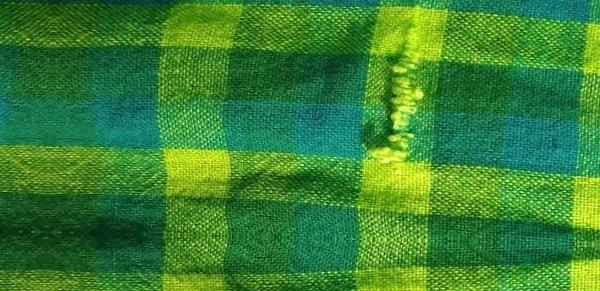knot: (363, 29, 426, 163)
